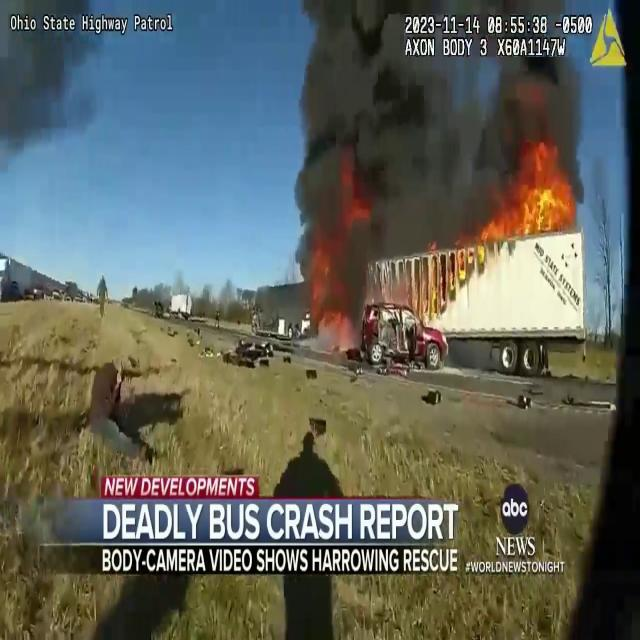Fire: (499, 139, 581, 239)
Smoke: (288, 0, 592, 290), (0, 0, 122, 152)
